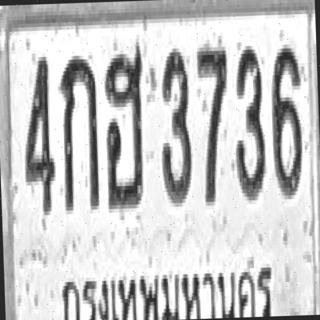A01: (59, 51, 100, 210)
A44: (102, 45, 147, 209)
N03: (157, 48, 193, 203), (231, 44, 266, 199)
N04: (20, 53, 56, 216)
N06: (270, 44, 304, 196)
N07: (196, 41, 231, 204)
P04: (57, 257, 276, 320)
